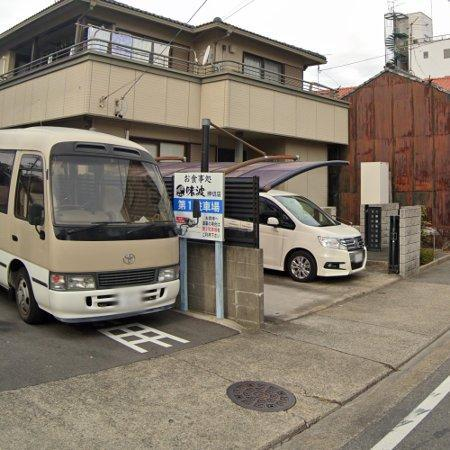buses: (0, 127, 179, 324)
